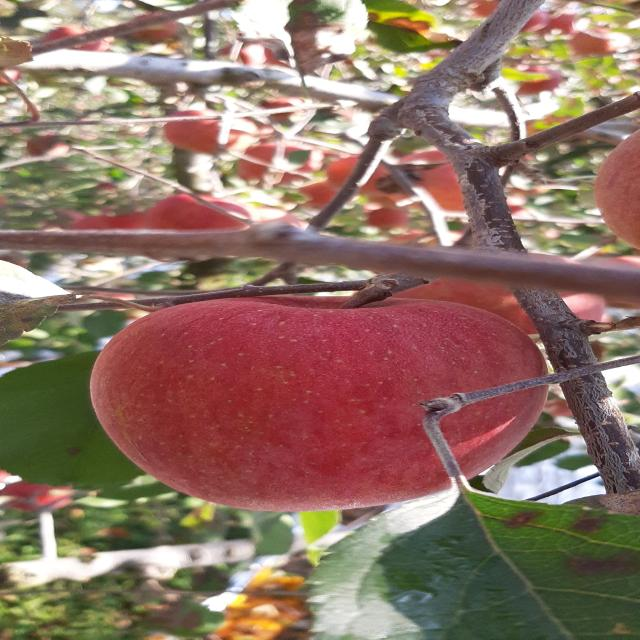fresh: (74, 289, 562, 519)
